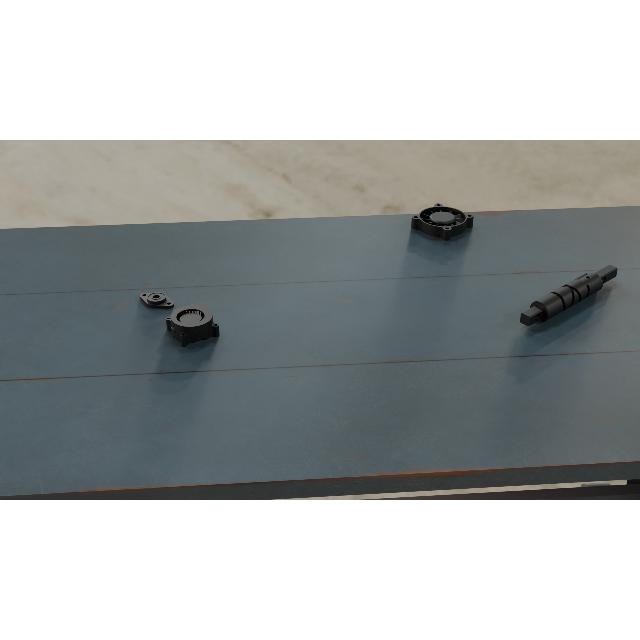Pieza1: (515, 258, 623, 334)
Pieza2: (134, 287, 180, 313)
Pieza3: (164, 302, 222, 348)
Pieza4: (408, 202, 476, 242)
